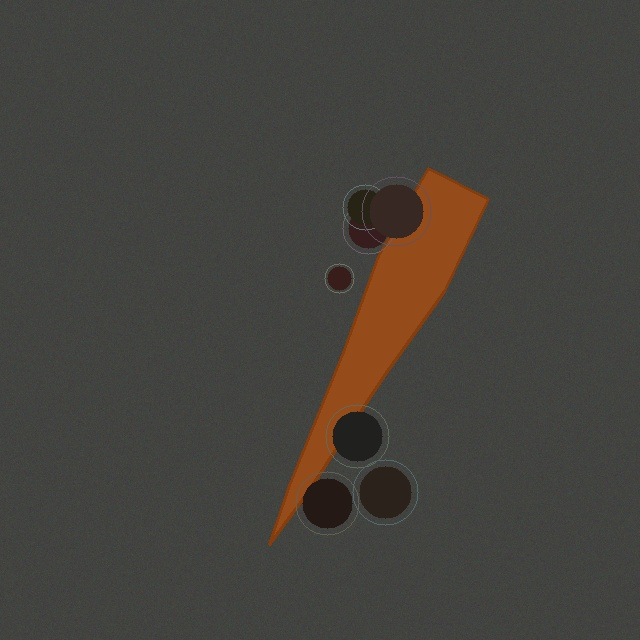Rotten_Carrot: (261, 160, 496, 552)
